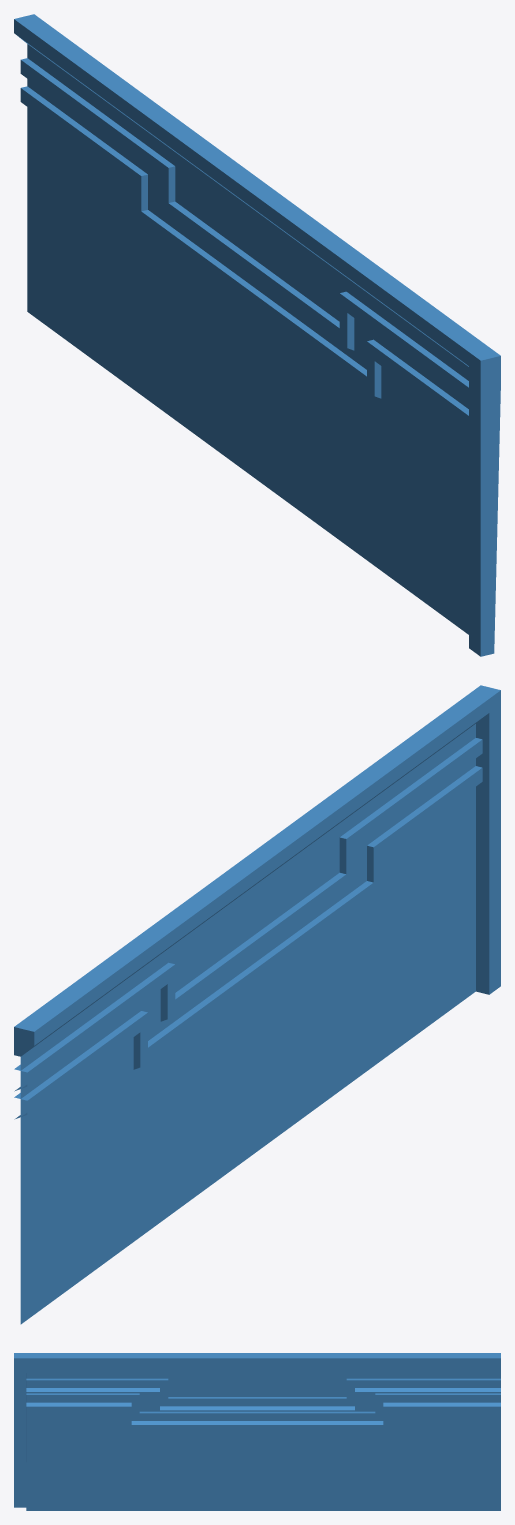
File: Pod_Wall_Mid_A.fbx
The picture shows the model from 3 angles, top to bottom: view 1: azimuth 30°, elevation 25°; view 2: azimuth 150°, elevation 25°; view 3: azimuth 270°, elevation 25°; orthographic projection. The views are drawn at different scales.
Parts seen in each view (by area): view 1: Pod_Wall_Mid_A; view 2: Pod_Wall_Mid_A; view 3: Pod_Wall_Mid_A.
Boxes of the visible parts, box(x1,y1,x2,y2) form: Pod_Wall_Mid_A: box(14, 14, 500, 656); Pod_Wall_Mid_A: box(14, 685, 500, 1324); Pod_Wall_Mid_A: box(14, 1353, 500, 1510).
Bounding box in the file's own units: 22.5 × 315 × 900.
